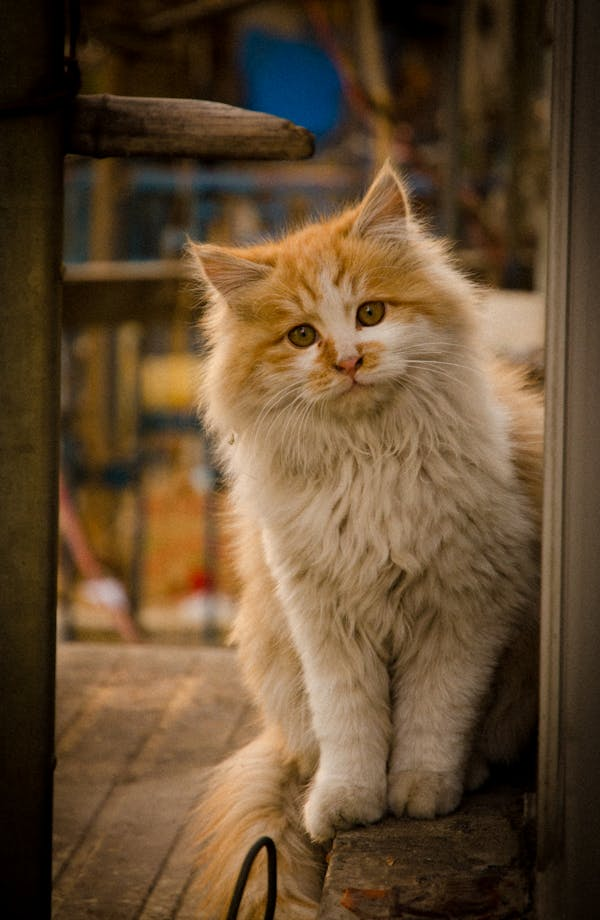Cat: (186, 162, 550, 830)
